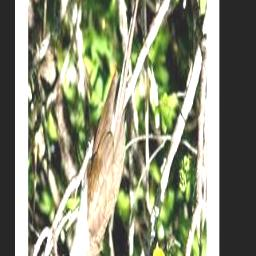Cuckoo: (62, 0, 142, 256)
